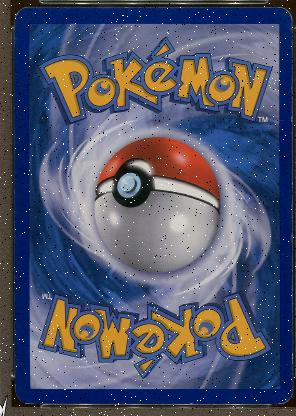Card: (10, 1, 294, 407)
Corner Wear: (13, 383, 42, 405), (274, 385, 293, 405), (270, 4, 290, 22)
Edge Wear: (289, 231, 291, 249), (289, 114, 291, 124), (14, 314, 15, 332), (289, 181, 291, 189), (290, 84, 291, 93), (14, 353, 15, 359)
